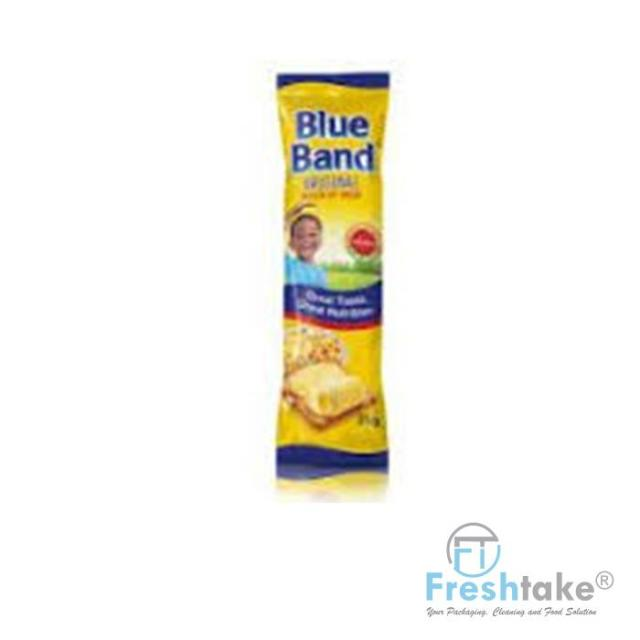butter: (272, 70, 391, 498)
